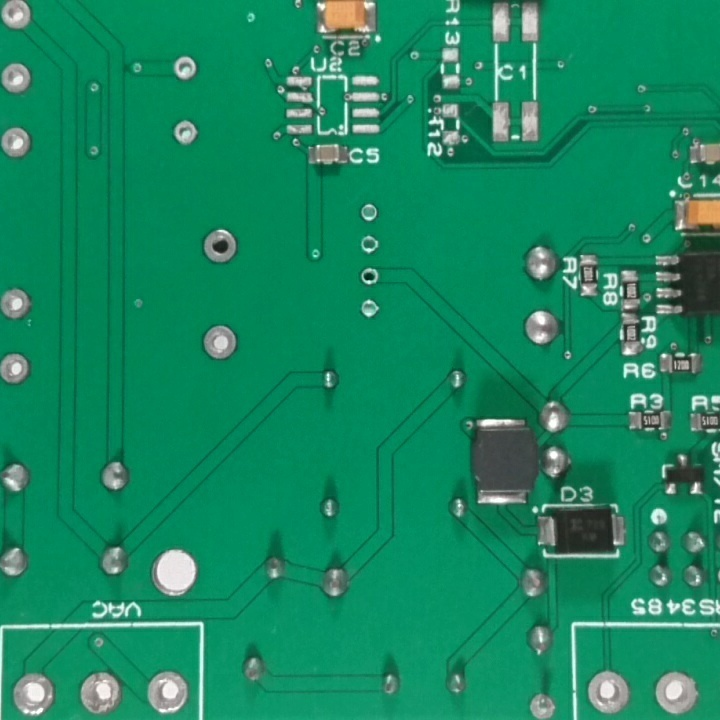F: (7, 668, 59, 720), (144, 669, 192, 717), (653, 669, 701, 716), (582, 670, 631, 716), (77, 671, 124, 717), (199, 320, 241, 363), (201, 227, 236, 265), (1, 1, 43, 32), (1, 285, 35, 323), (1, 350, 33, 389), (1, 60, 34, 97), (1, 126, 35, 160), (525, 692, 560, 720), (170, 117, 198, 149), (173, 53, 199, 84), (359, 298, 381, 322), (358, 267, 381, 289), (358, 201, 378, 226), (359, 235, 381, 257)
